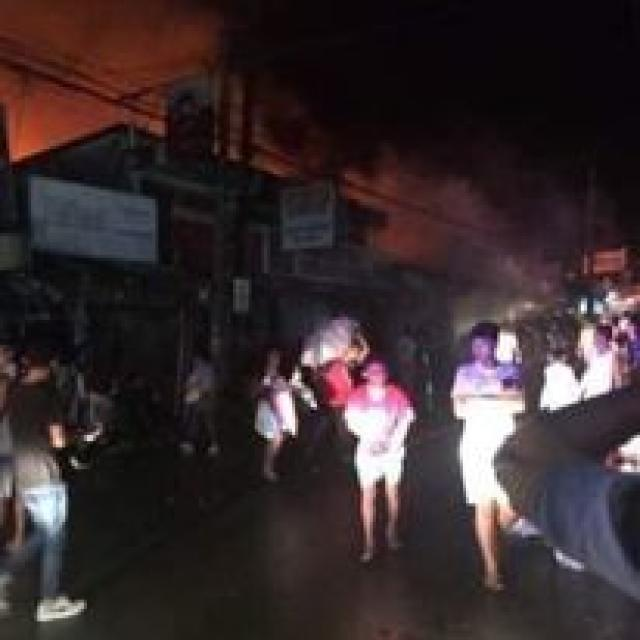Smoke: (380, 158, 561, 294), (0, 3, 175, 136)
